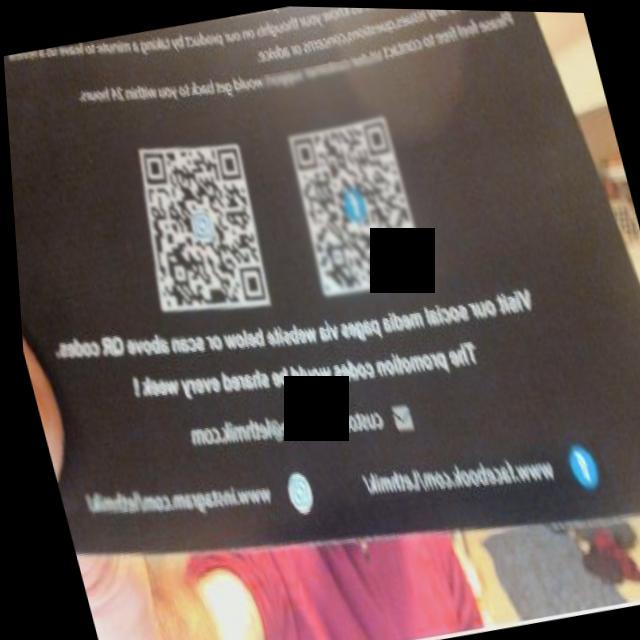QR_CODE: (258, 50, 440, 313), (102, 107, 292, 345)
